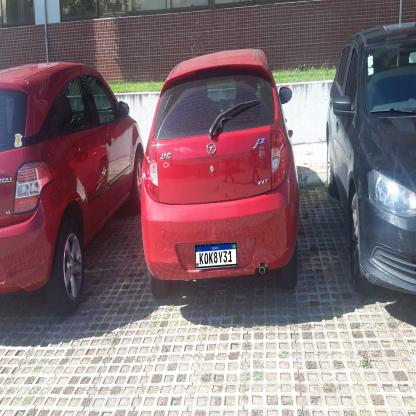PlacaM: (195, 242, 237, 268)
